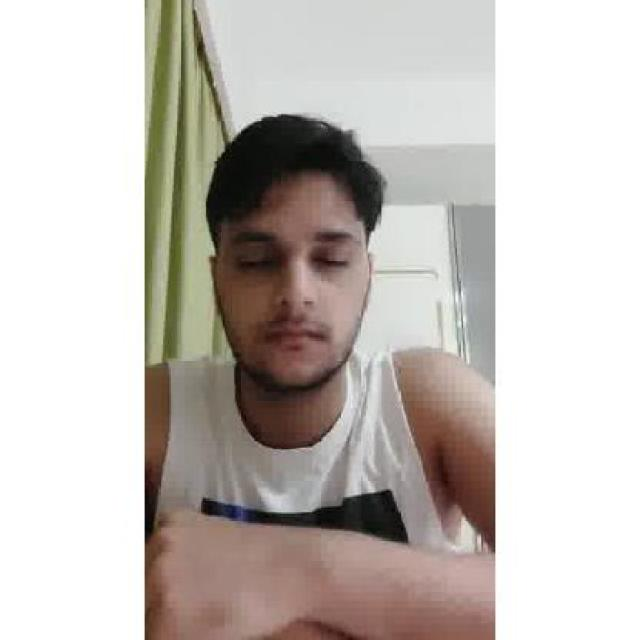inattentif: (203, 112, 374, 396)
